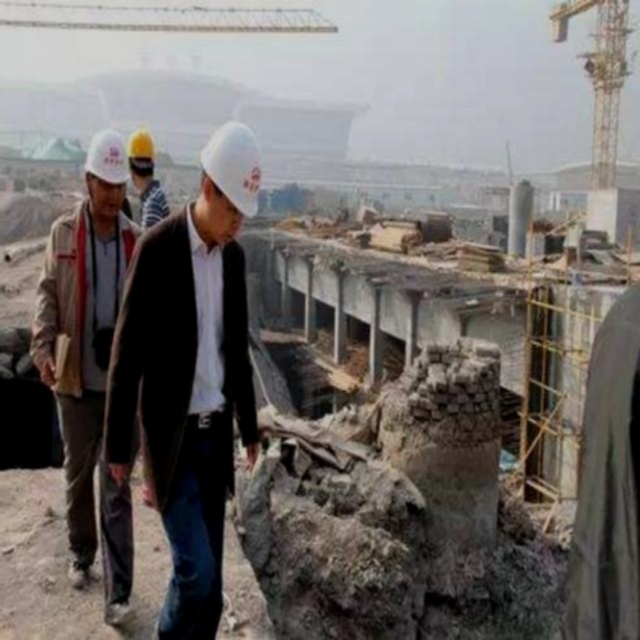Con_Casco: (197, 118, 267, 248)
